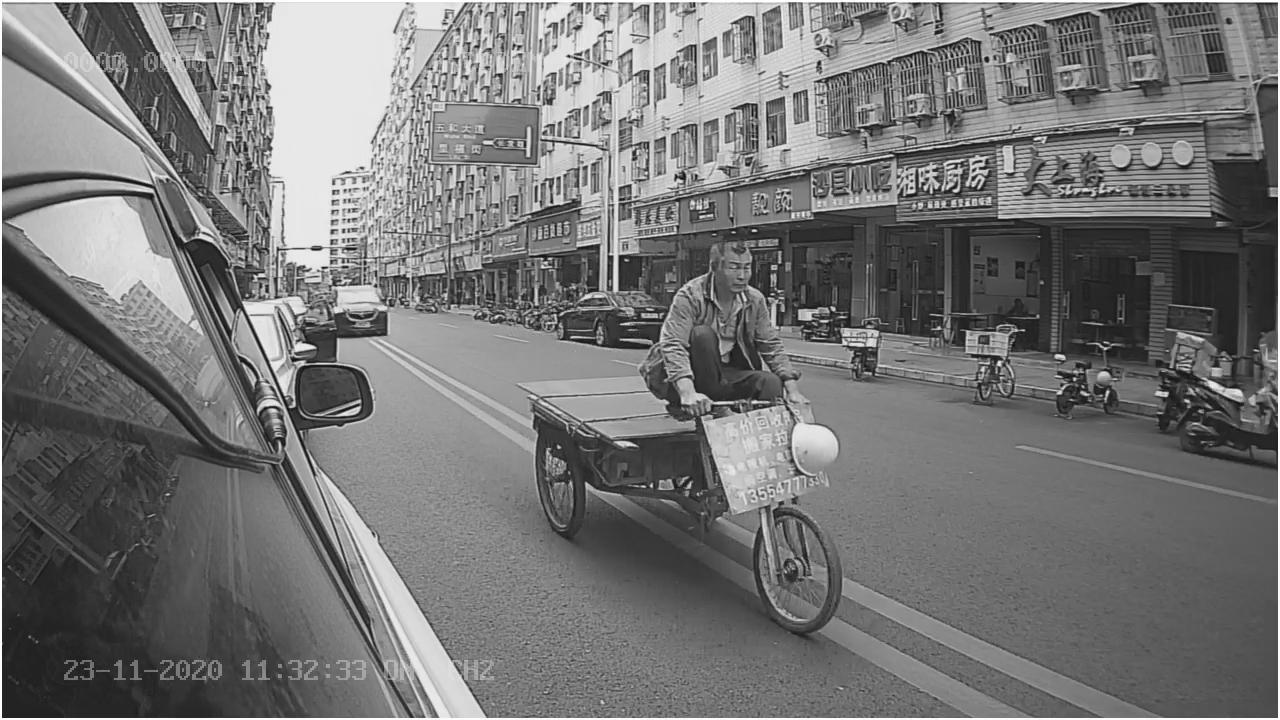person: (645, 218, 812, 416)
